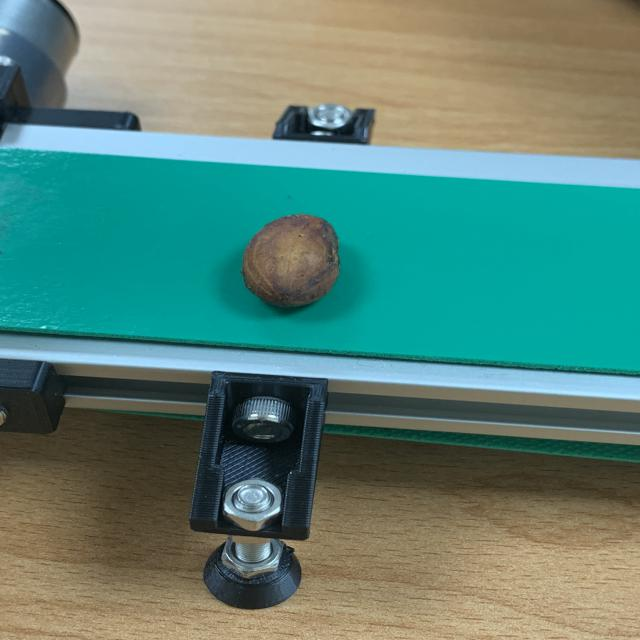Fine_cocoabeans: (190, 192, 450, 383)
